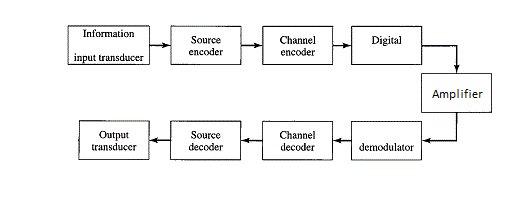arrow: (421, 111, 459, 145), (421, 43, 460, 74), (148, 135, 173, 145), (241, 40, 263, 49), (240, 137, 264, 145), (149, 41, 171, 49), (331, 41, 352, 49), (333, 137, 352, 145)
process: (65, 23, 152, 67), (168, 23, 244, 67), (76, 118, 152, 162), (260, 118, 334, 163), (419, 71, 494, 115), (349, 119, 424, 163), (168, 118, 243, 162), (260, 24, 335, 67), (349, 24, 423, 67)
text: (72, 28, 144, 63), (90, 129, 138, 152), (279, 33, 317, 58), (278, 128, 316, 152), (188, 35, 225, 57), (188, 129, 223, 152), (358, 140, 415, 153), (430, 87, 484, 100), (371, 34, 403, 47)
